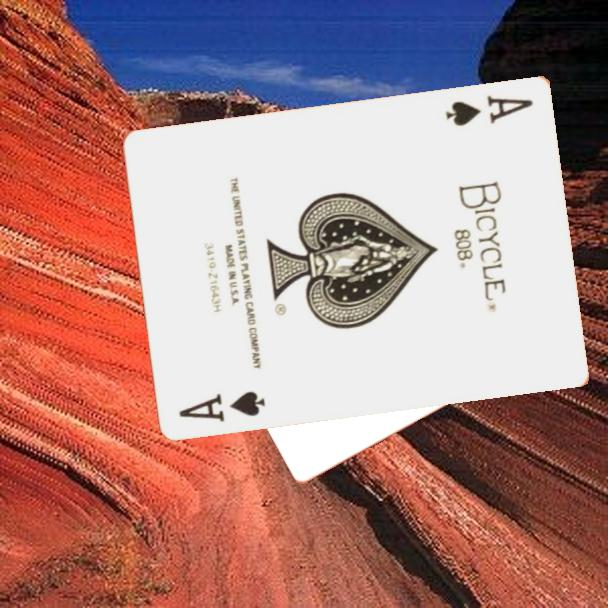s01: (442, 91, 537, 129), (175, 387, 268, 424)
